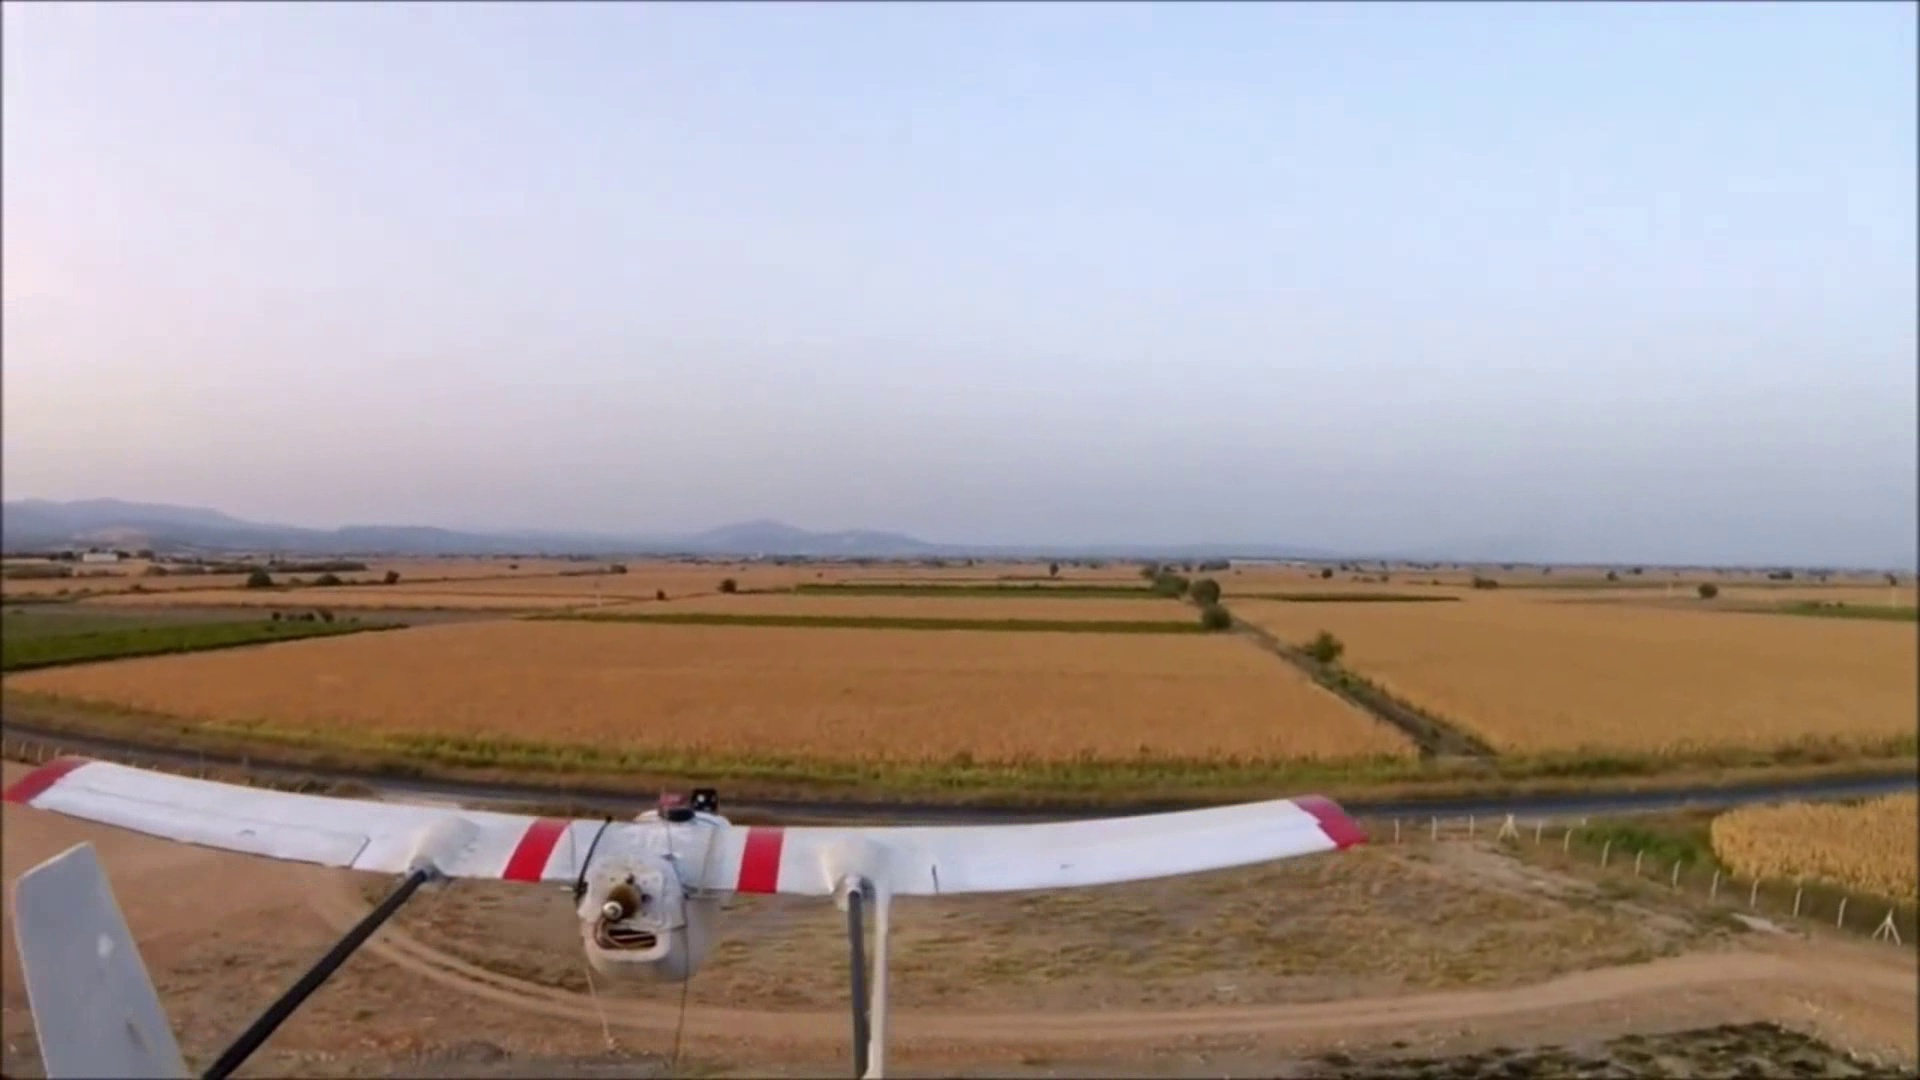airplane: (2, 745, 1413, 1073)
